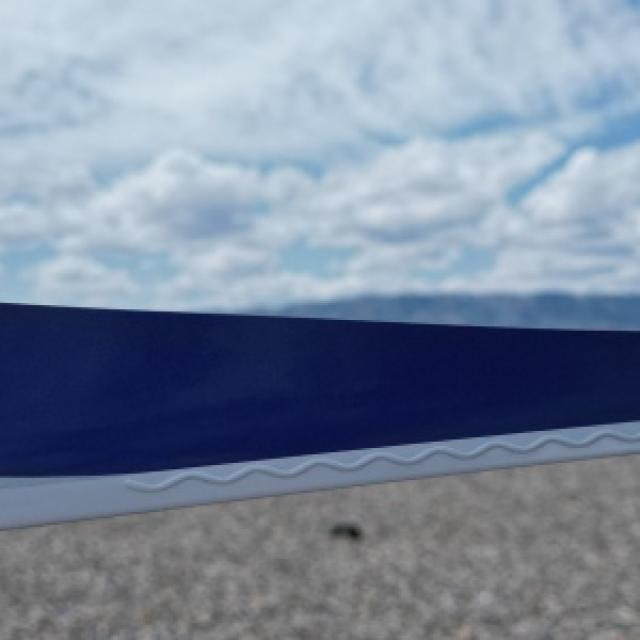healthy: (0, 301, 638, 525)
